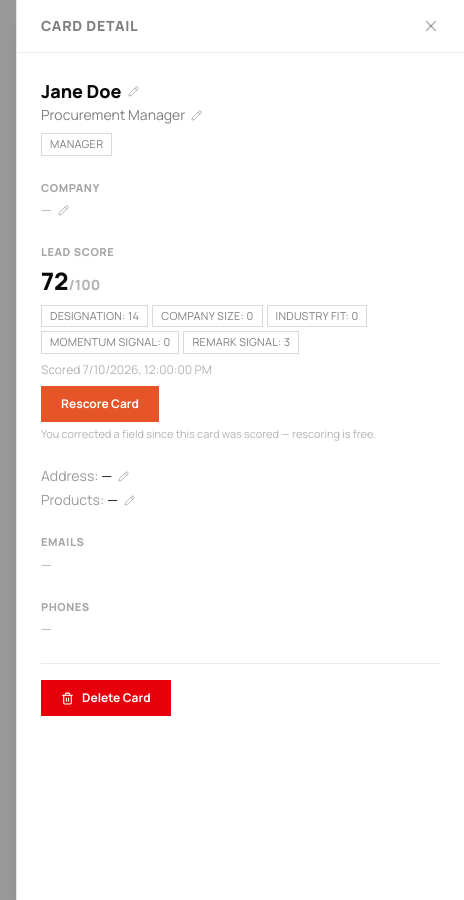
Test case: Card detail drawer scoring CTA › shows a free Rescore Card button once a field has been corrected since the last score
The image size is (464, 900).
Expected: the text "You corrected a field since this card was scored — rescoring is free." is shown, x1=41 y1=426 x2=376 y2=440
Click the button "Rescore Card" at [100, 404], box x1=41 y1=386 x2=159 y2=422
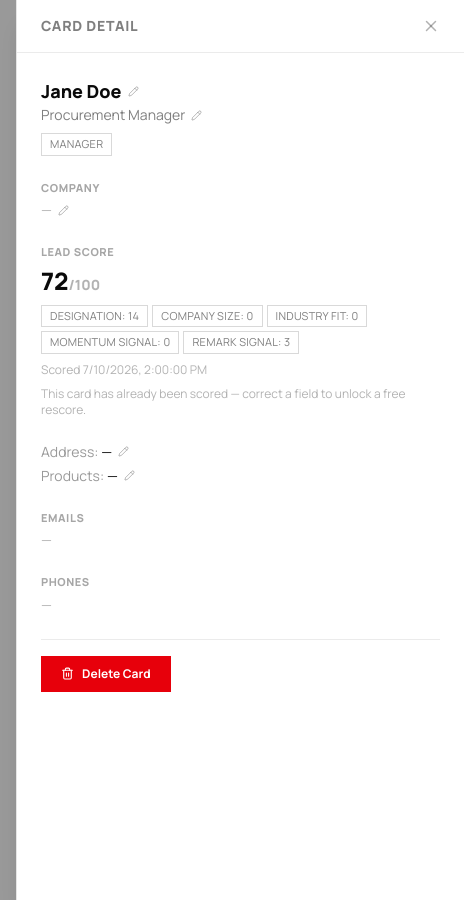
Expected: the button "Rescore Card" is gone
Expected: the text "This card has already been scored — correct a field to unlock a free rescore." is shown, x1=41 y1=386 x2=440 y2=418
